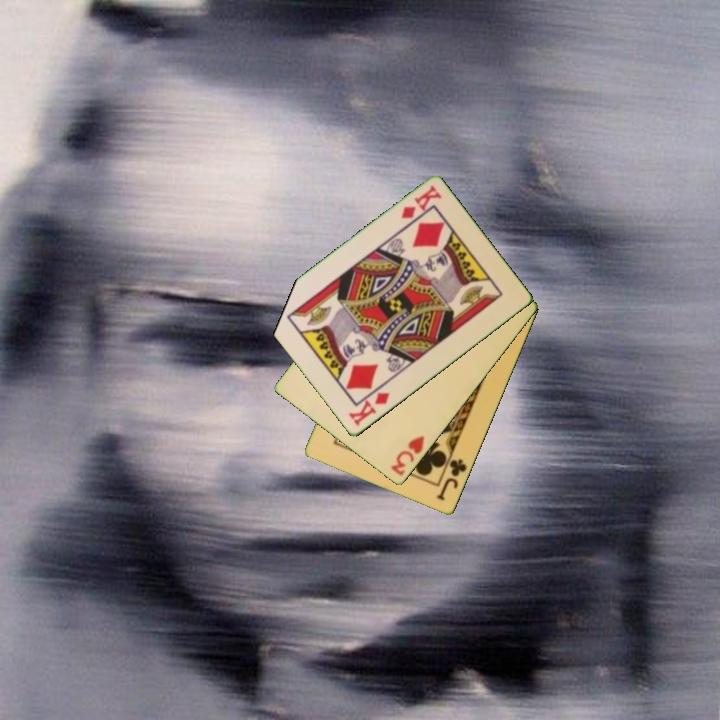3h: (387, 432, 428, 479)
Jc: (433, 450, 470, 504)
Kd: (345, 389, 393, 429), (397, 182, 444, 222)
